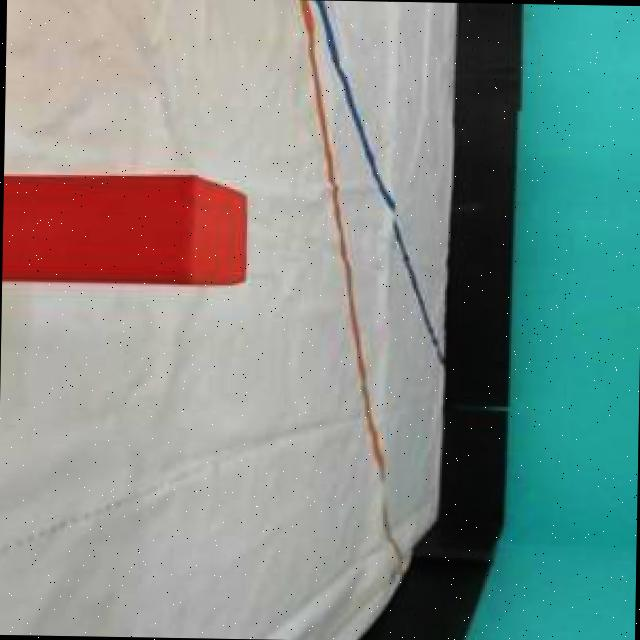redbox: (0, 176, 248, 285)
